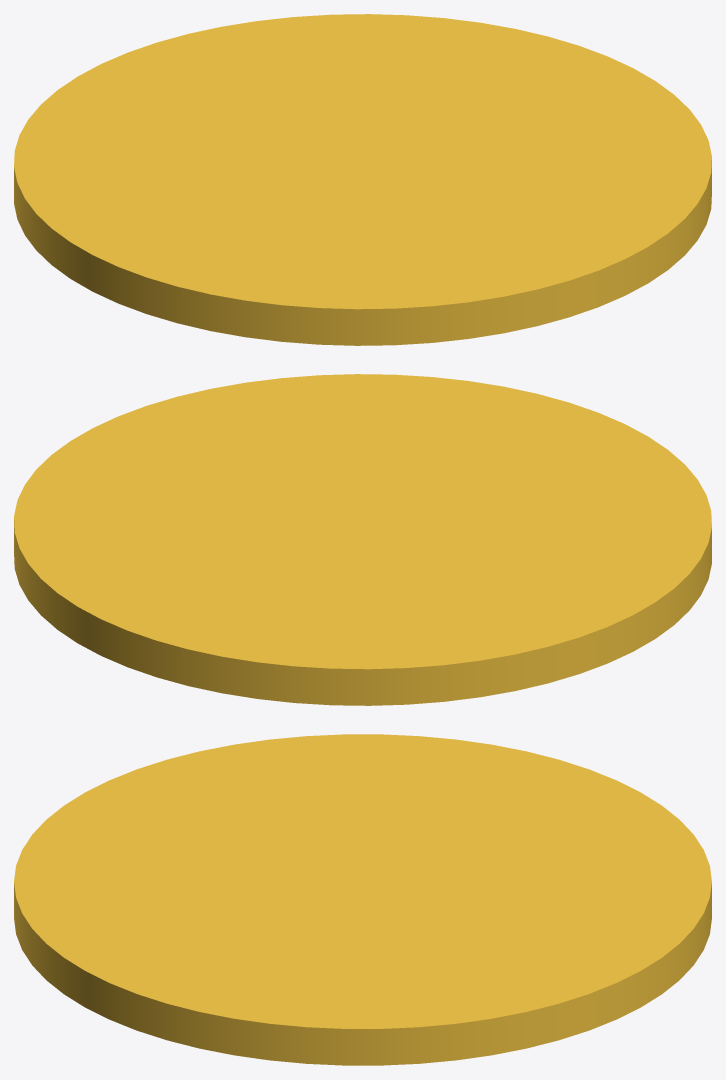
Rendered from Piston - Throttle.obj.
3 views of the same model, one above another, from view 1: azimuth 30°, elevation 25°; view 2: azimuth 150°, elevation 25°; view 3: azimuth 270°, elevation 25° (orthographic).
Visible parts, largest first — view 1: mesh2, mesh1; view 2: mesh2, mesh1; view 3: mesh2, mesh1.
Part boxes in pixels (box(x1,y1,x2,y2)): mesh2: box(14, 14, 711, 309); mesh1: box(14, 160, 711, 345); mesh2: box(14, 374, 711, 669); mesh1: box(14, 520, 711, 705); mesh2: box(14, 734, 711, 1028); mesh1: box(14, 883, 711, 1065).
Size of the model in its own units: 0.0431 by 0.0025 by 0.0432.
